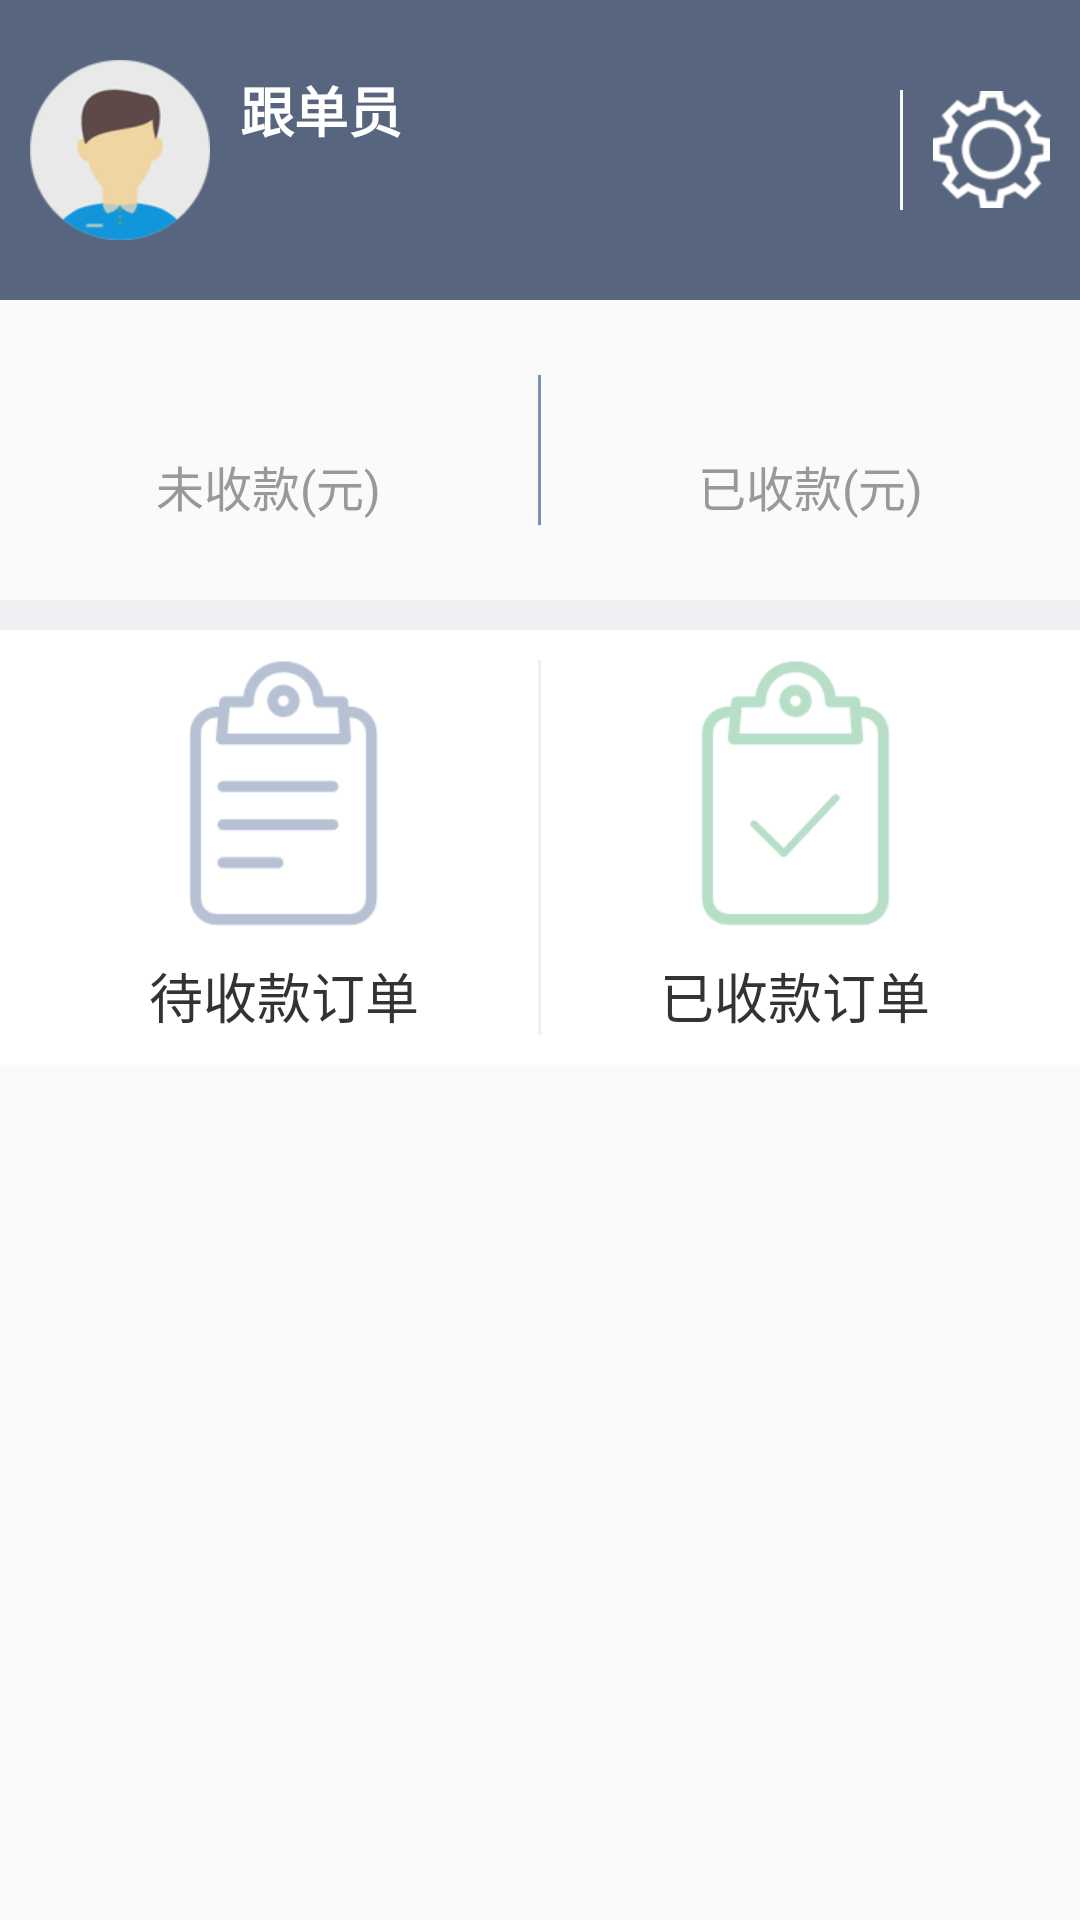

Screen size 1080*1920. Icon name, then its center in pixels as [x,y]:
head: [120,150]
setting: [991,149]
